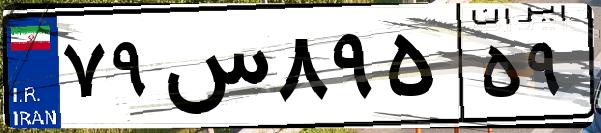5: (385, 28, 445, 110), (475, 38, 525, 113)
7: (57, 26, 110, 100)
8: (270, 28, 330, 110)
9: (330, 28, 385, 110), (525, 38, 570, 115), (110, 28, 158, 98)
س: (158, 20, 270, 120)
